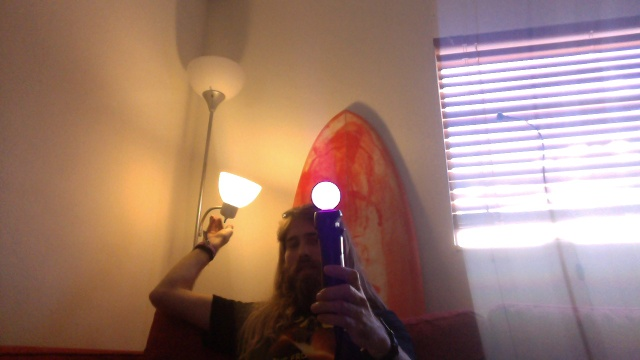wand: (312, 182, 341, 210)
